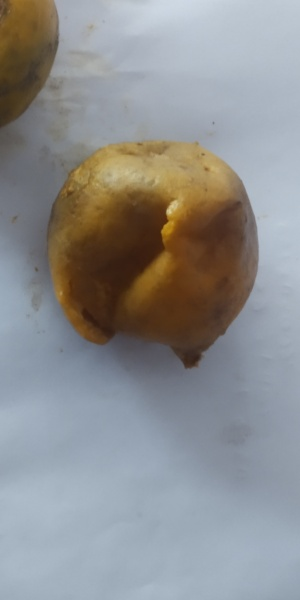BAD: (58, 130, 252, 368)
